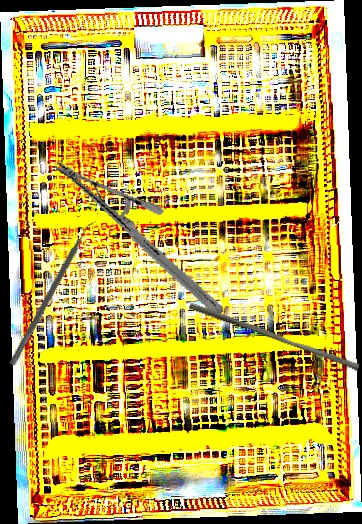Needle Holder: (30, 159, 248, 318)
Pusher: (186, 302, 362, 372)
Spatula Surgical: (8, 216, 100, 370)
